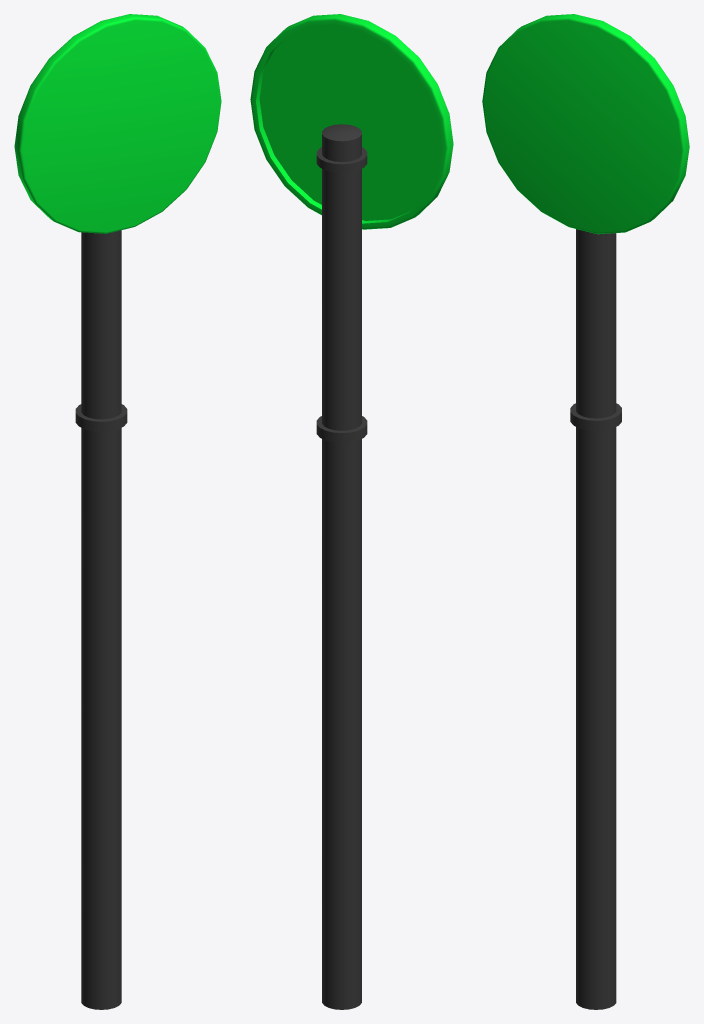
Rendered from Prop_TrafficSignRound.FBX.
3 renders of one model, left to right at view 1: azimuth 30°, elevation 25°; view 2: azimuth 150°, elevation 25°; view 3: azimuth 330°, elevation 25°, orthographic. The views are drawn at different scales.
Parts seen in each view (by area): view 1: TrafficSign_Round, Traffic_Pole; view 2: Traffic_Pole, TrafficSign_Round; view 3: TrafficSign_Round, Traffic_Pole.
Boxes of the visible parts, bbox=[...] form: TrafficSign_Round: bbox=[14, 14, 221, 233]; Traffic_Pole: bbox=[75, 230, 127, 1009]; Traffic_Pole: bbox=[316, 124, 367, 1009]; TrafficSign_Round: bbox=[250, 14, 453, 229]; TrafficSign_Round: bbox=[482, 14, 689, 234]; Traffic_Pole: bbox=[570, 229, 621, 1009].
Bounding box in the file's own units: 45.43 × 213 × 11.45.
